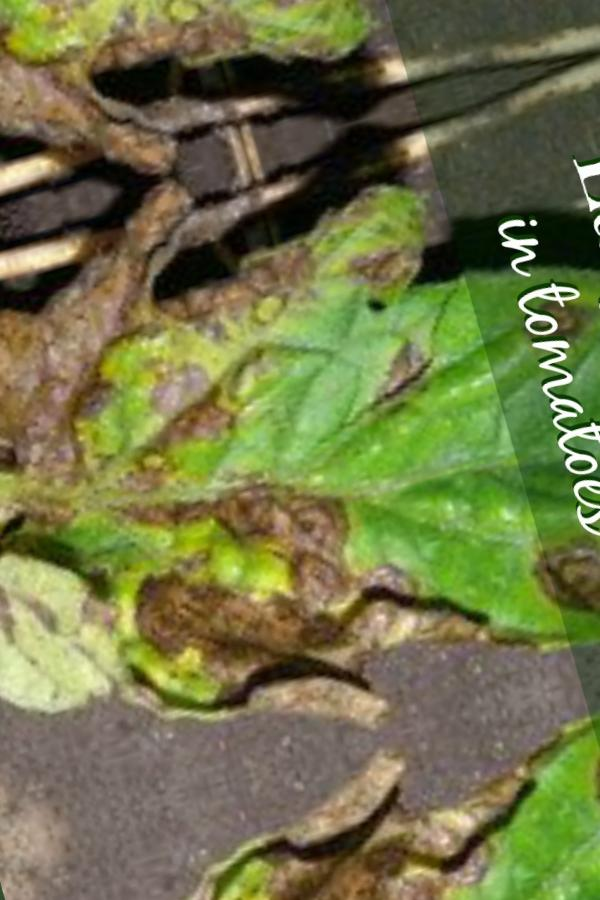Tomato Early blight leaf: (0, 84, 600, 811)
